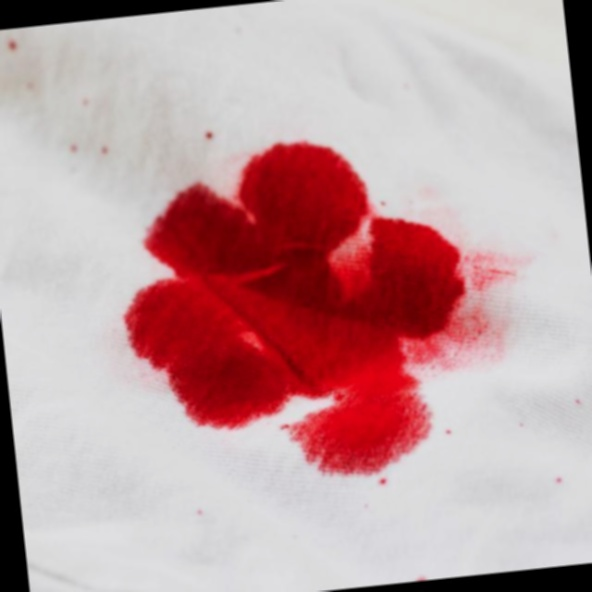blood: (131, 142, 466, 475)
